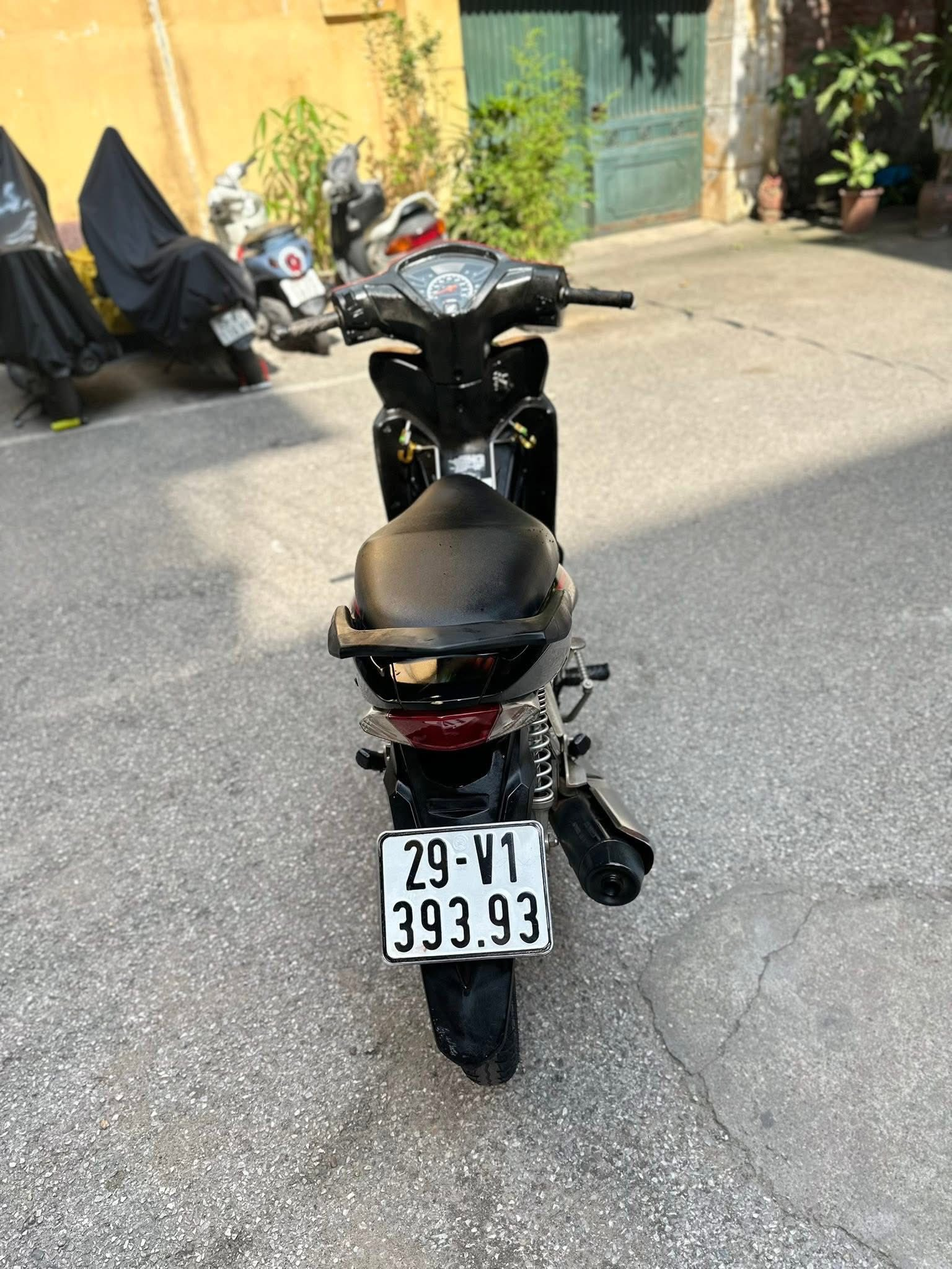bien_so: (364, 816, 560, 969)
